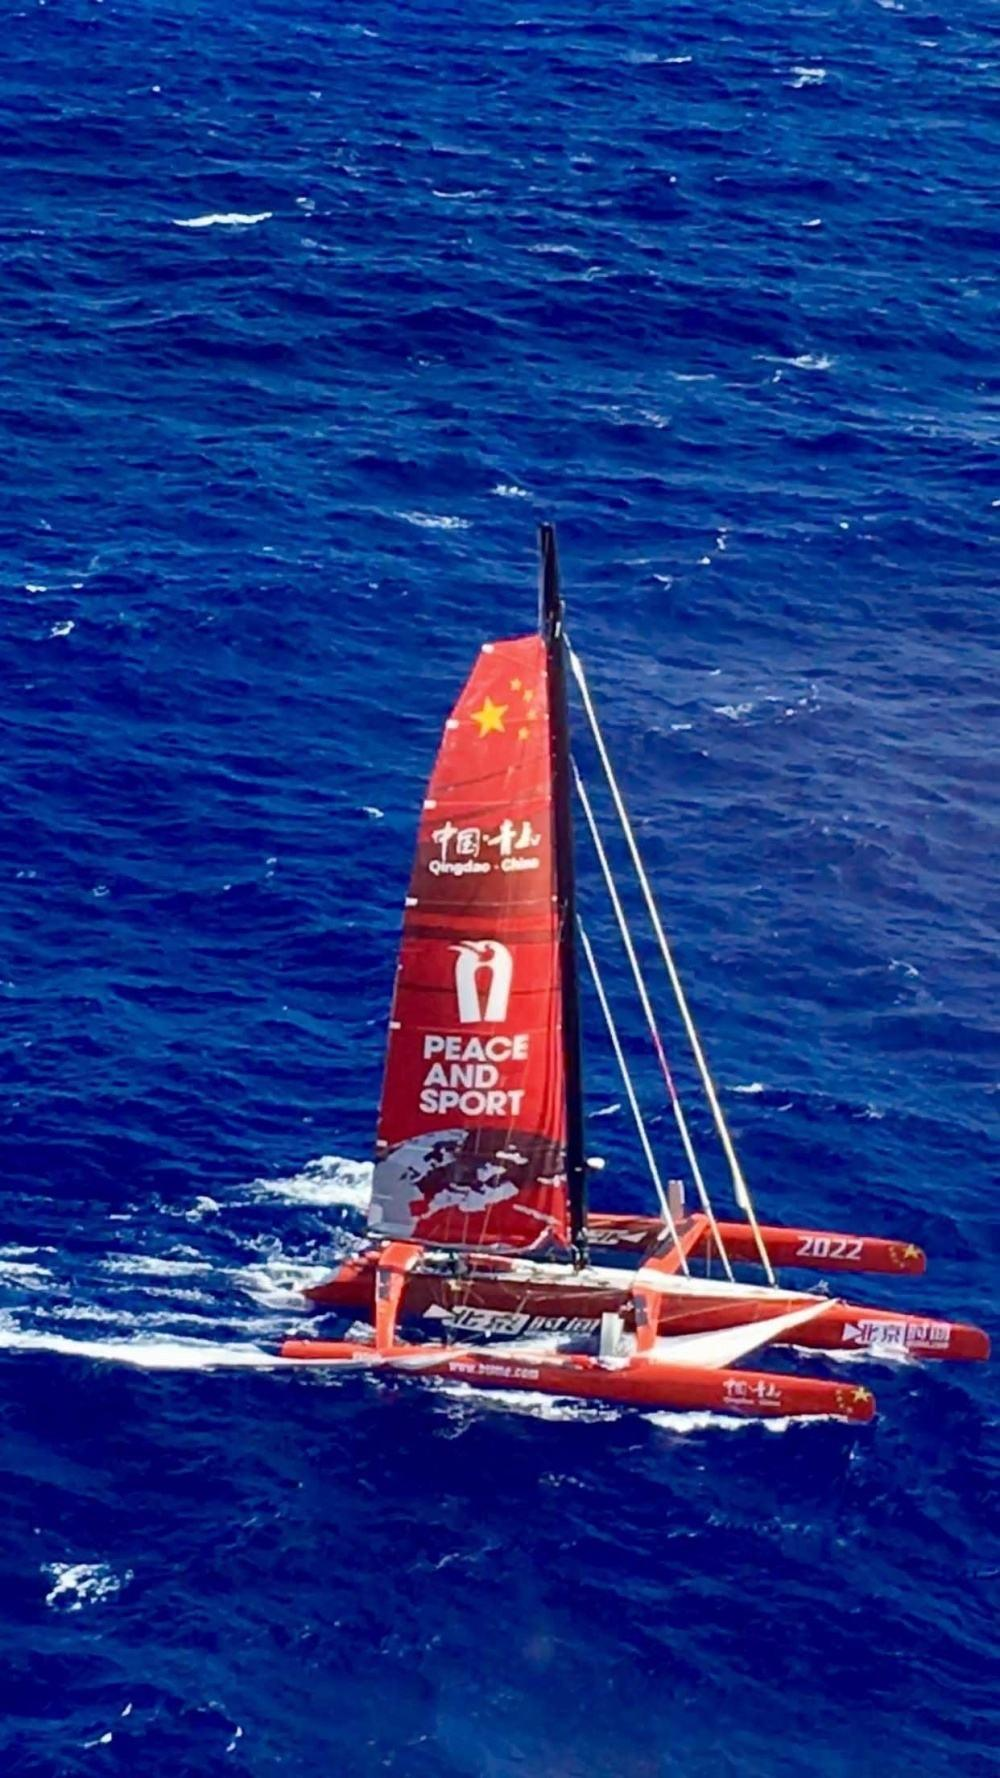fanchuan: (271, 521, 977, 1395)
